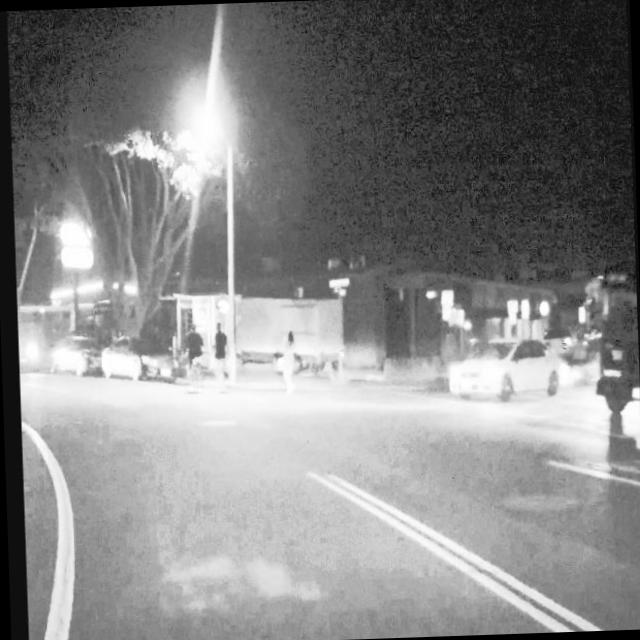Truck: (234, 293, 344, 370)
